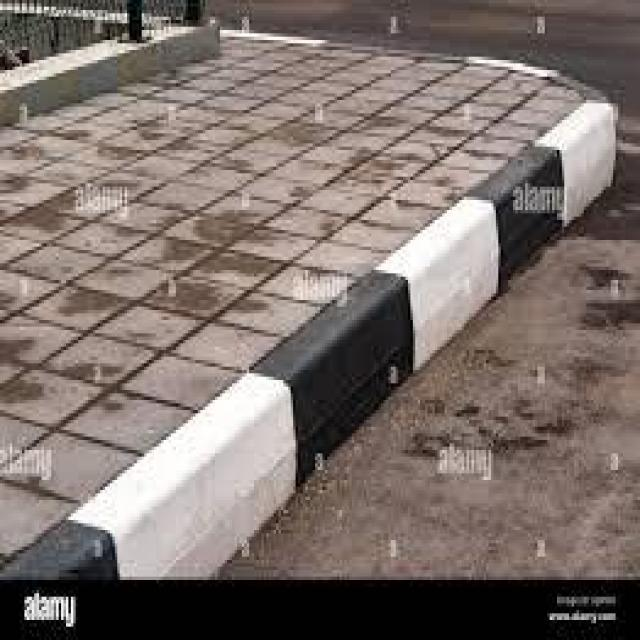curb: (1, 101, 619, 575)
